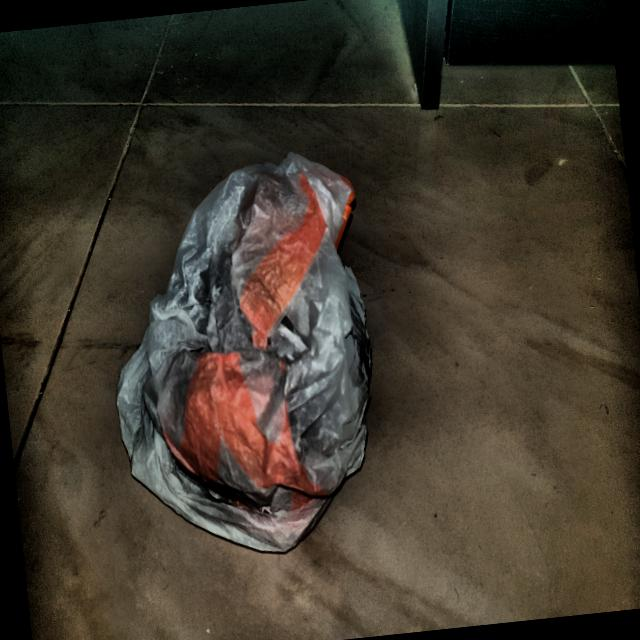plastic bag: (79, 135, 408, 588)
